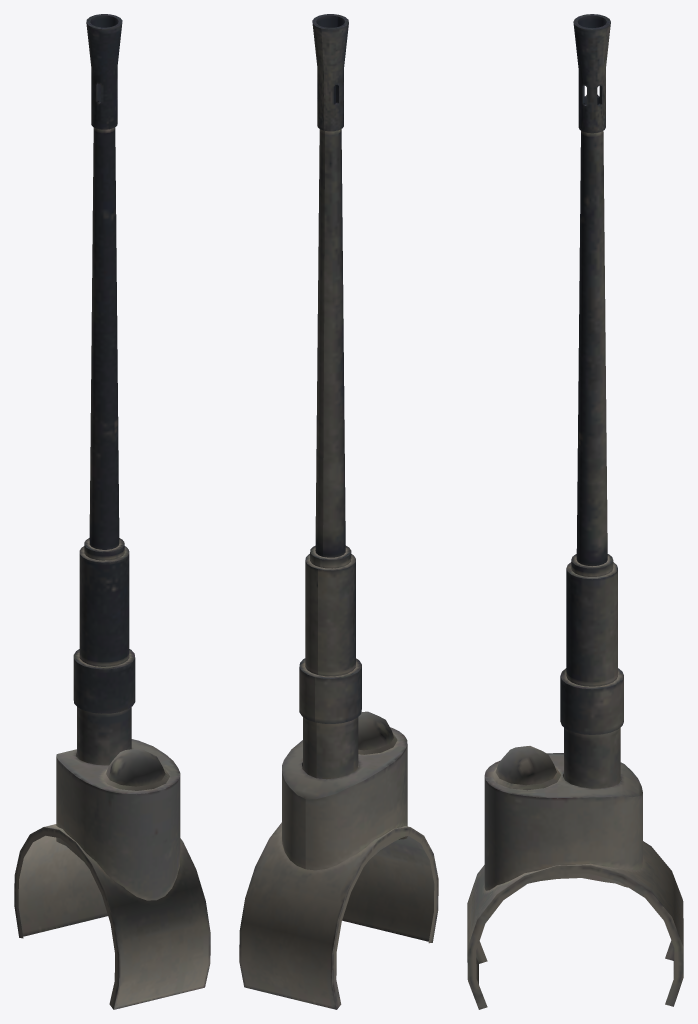
The model's file is Gun_02.glb.
3 views of the same model, side by side, from view 1: azimuth 30°, elevation 25°; view 2: azimuth 150°, elevation 25°; view 3: azimuth 270°, elevation 25° (orthographic). The views are drawn at different scales.
Parts seen in each view (by area): view 1: set_0_group_0; view 2: set_0_group_0; view 3: set_0_group_0.
Part boxes in pixels (x1=…): set_0_group_0: x1=14, y1=14, x2=210, y2=1009; set_0_group_0: x1=239, y1=14, x2=438, y2=1009; set_0_group_0: x1=467, y1=14, x2=683, y2=1009.
Size of the model in its own units: 0.1782 by 1.75 by 0.3553.
Materials: 1 (1 with a texture image).
